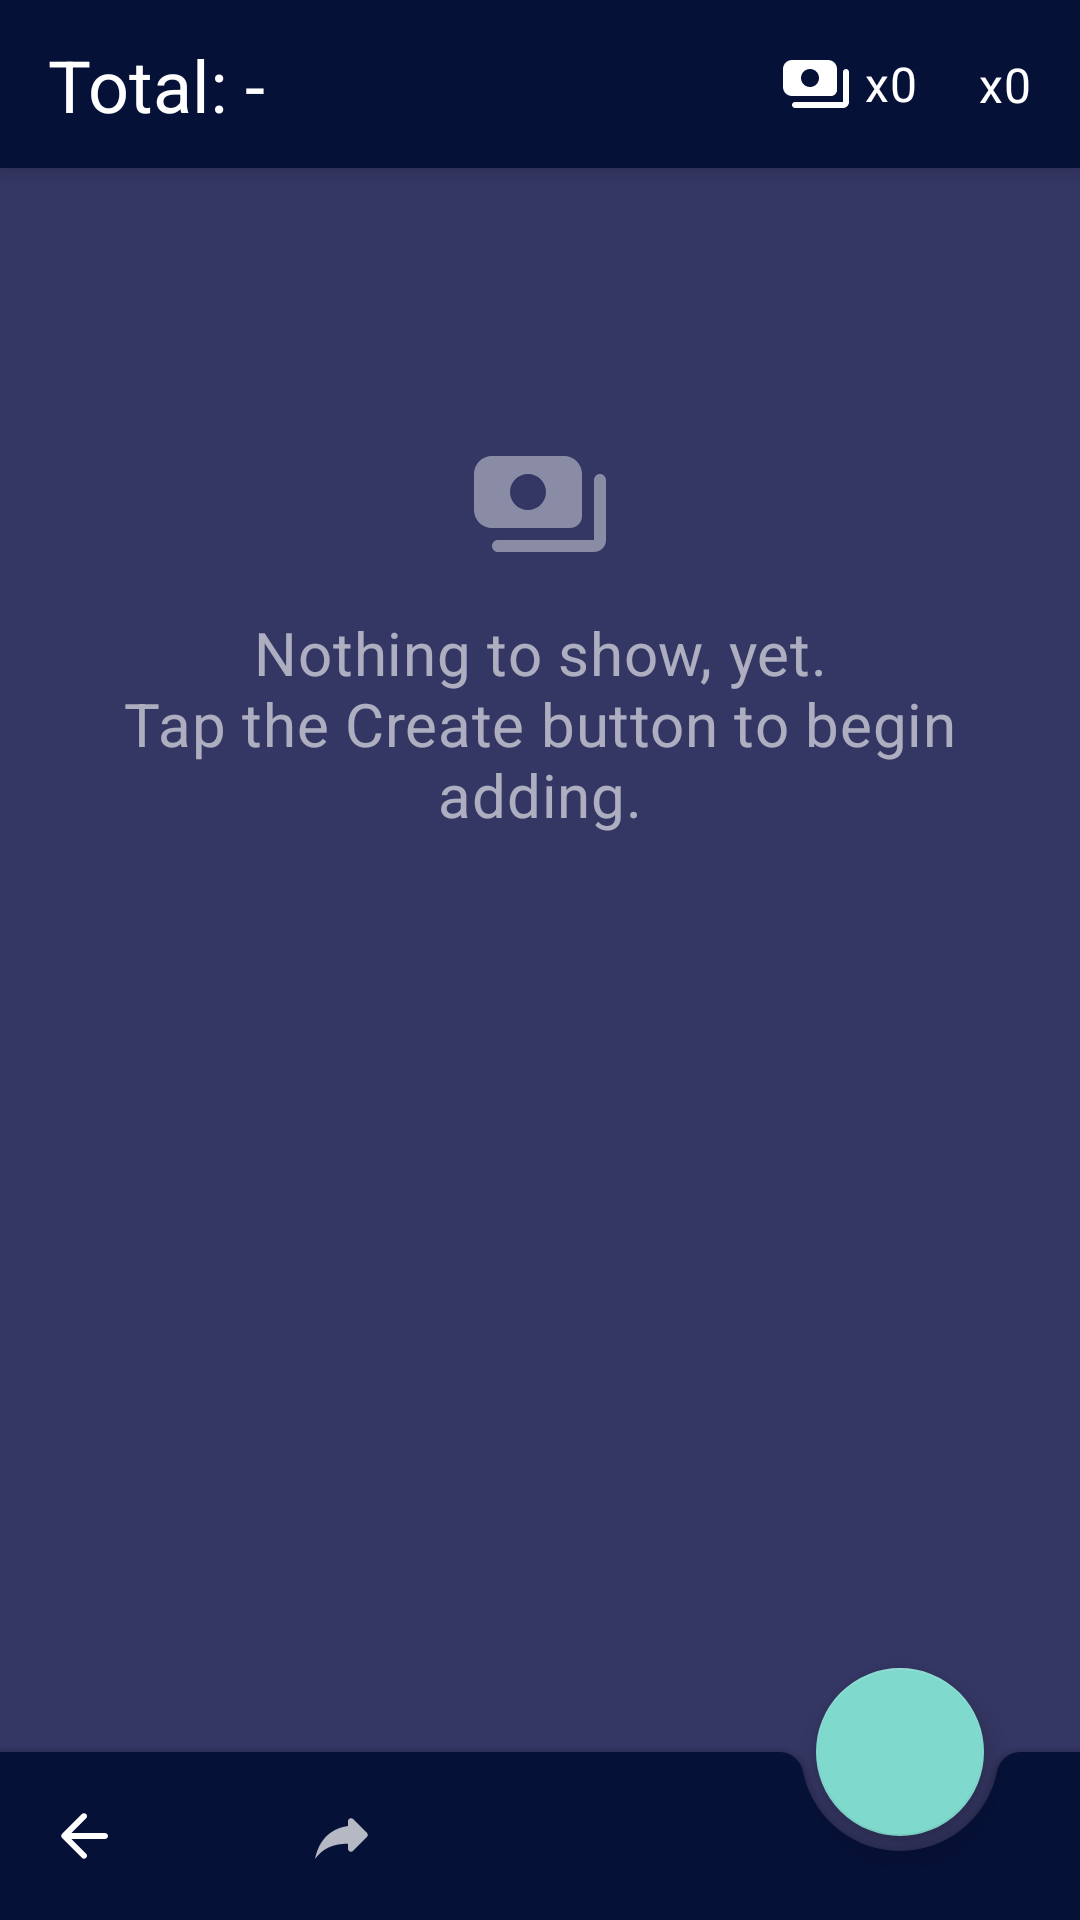

Where icons sit on this 1080x1920 app screen, as {"left": x1, "top": y1, "right": x2, "bottom": y2}:
money: {"left": 474, "top": 456, "right": 606, "bottom": 552}
Money Icon: {"left": 783, "top": 60, "right": 849, "bottom": 108}
